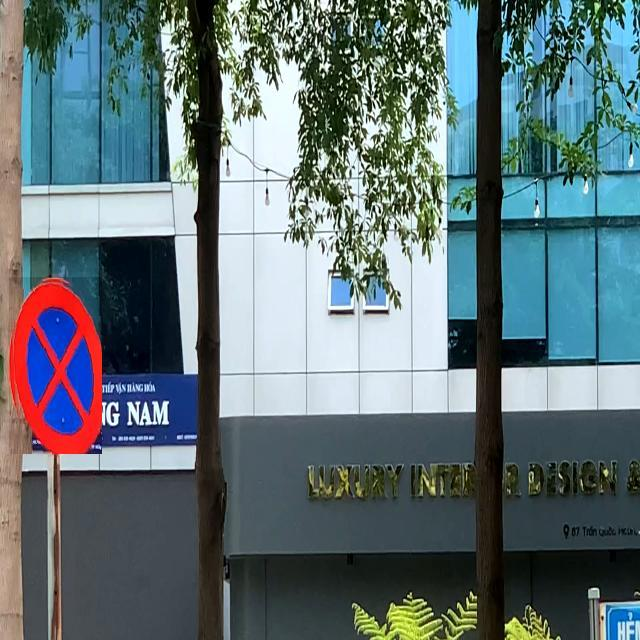P-130: (9, 277, 102, 454)
